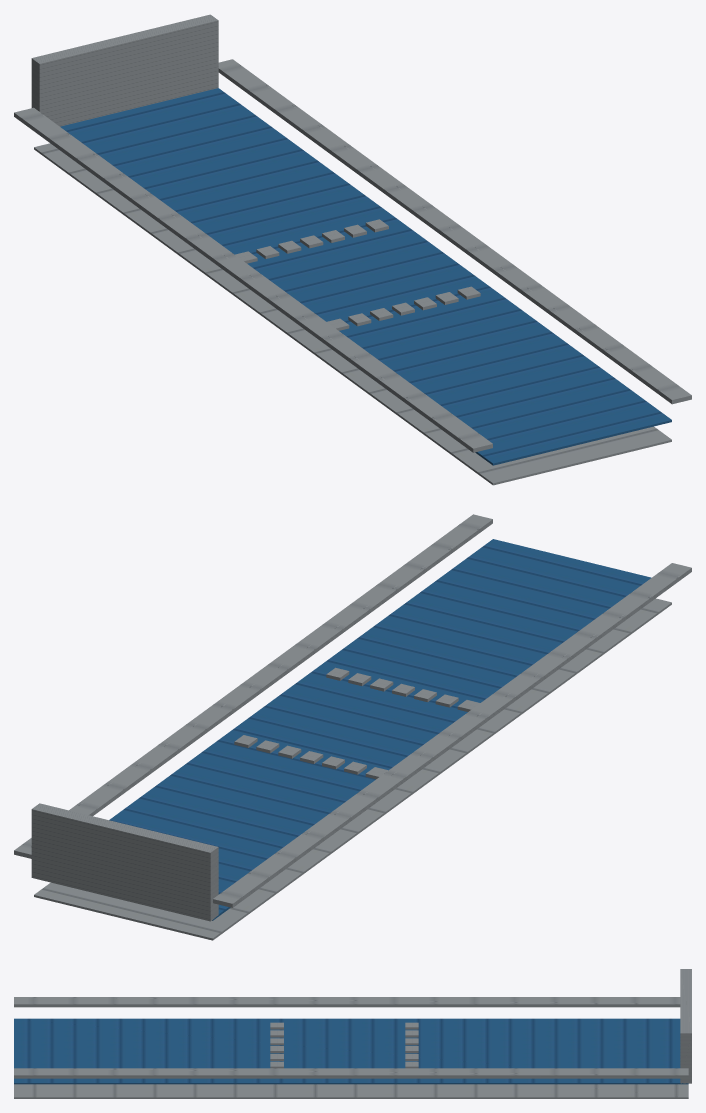
3 renders of one model, top to bottom at view 1: azimuth 30°, elevation 25°; view 2: azimuth 150°, elevation 25°; view 3: azimuth 270°, elevation 25°, orthographic. The views are drawn at different scales.
Parts seen in each view (by area): view 1: node_component_11110_03_03188_002_01_water_plane, node_component_11110_03_03188_002_02_cascade_waterfall, node_component_11110_03_03188_002_03_stepping_stones; view 2: node_component_11110_03_03188_002_01_water_plane, node_component_11110_03_03188_002_02_cascade_waterfall, node_component_11110_03_03188_002_03_stepping_stones; view 3: node_component_11110_03_03188_002_01_water_plane, node_component_11110_03_03188_002_03_stepping_stones, node_component_11110_03_03188_002_02_cascade_waterfall.
Part boxes in pixels (x1=…): node_component_11110_03_03188_002_01_water_plane: x1=14, y1=59, x2=691, y2=485; node_component_11110_03_03188_002_02_cascade_waterfall: x1=31, y1=14, x2=218, y2=126; node_component_11110_03_03188_002_03_stepping_stones: x1=235, y1=219, x2=480, y2=330; node_component_11110_03_03188_002_01_water_plane: x1=14, y1=514, x2=691, y2=940; node_component_11110_03_03188_002_02_cascade_waterfall: x1=31, y1=803, x2=218, y2=921; node_component_11110_03_03188_002_03_stepping_stones: x1=234, y1=667, x2=479, y2=779; node_component_11110_03_03188_002_01_water_plane: x1=14, y1=997, x2=688, y2=1098; node_component_11110_03_03188_002_03_stepping_stones: x1=270, y1=1022, x2=418, y2=1068; node_component_11110_03_03188_002_02_cascade_waterfall: x1=680, y1=969, x2=691, y2=1083.
Bounding box in the file's own units: 11 × 4.3 × 40.2.
Materials: 3 (3 with a texture image).
